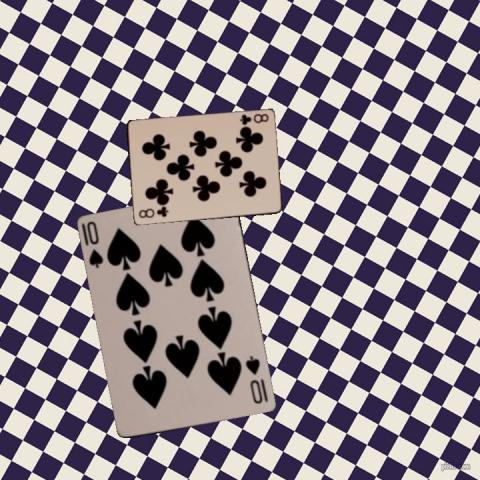10s: (242, 354, 264, 405), (84, 218, 105, 270)
8c: (237, 110, 270, 126), (136, 205, 169, 219)
